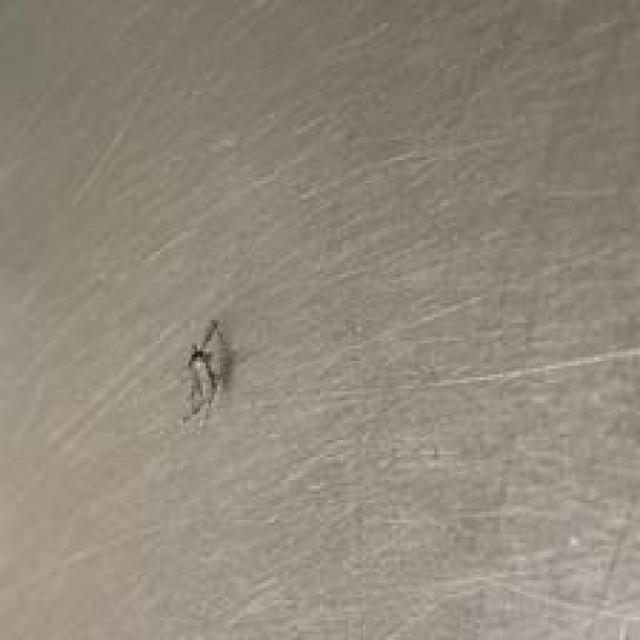Aedes albopictus: (180, 317, 234, 423)
